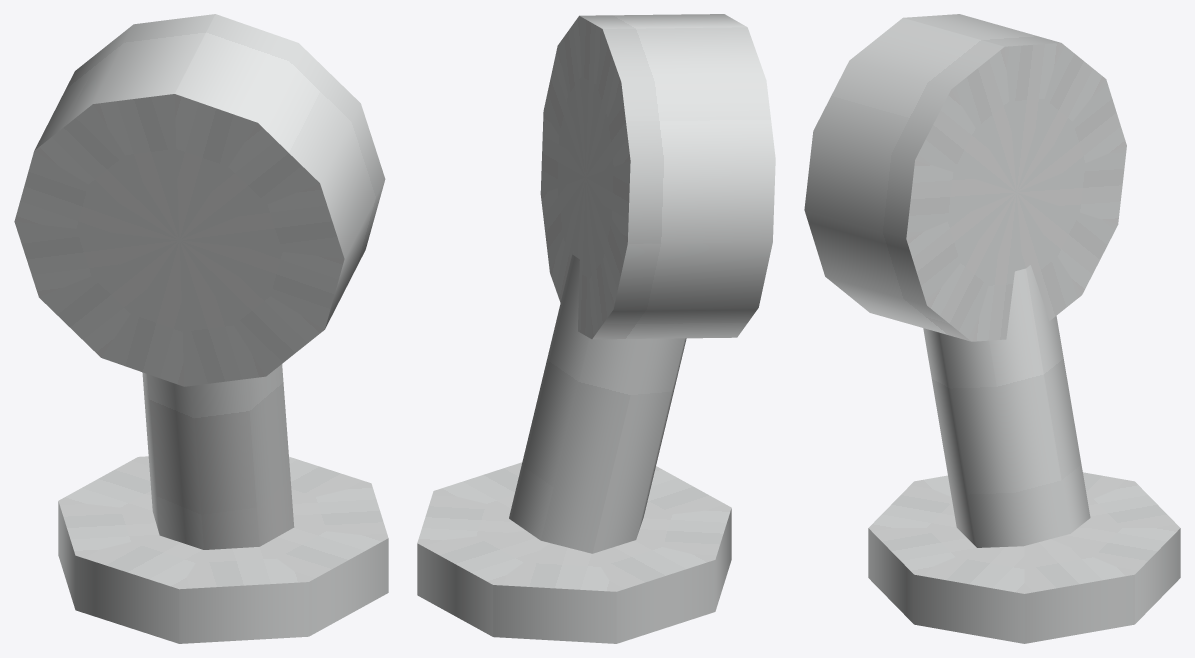
Rendered from trusssignalarm_stub_142.obj.
3 views of the same model, side by side, from view 1: azimuth 30°, elevation 25°; view 2: azimuth 150°, elevation 25°; view 3: azimuth 270°, elevation 25° (orthographic). The views are drawn at different scales.
Parts seen in each view (by area): view 1: trusssignalarm_stub_142; view 2: trusssignalarm_stub_142; view 3: trusssignalarm_stub_142.
Boxes of the visible parts, x1,y1,x2,y2 form: trusssignalarm_stub_142: (14,14,388,643); trusssignalarm_stub_142: (417,14,775,643); trusssignalarm_stub_142: (804,14,1180,643).
Size of the model in its own units: 0.4218 by 0.647 by 0.4218.
